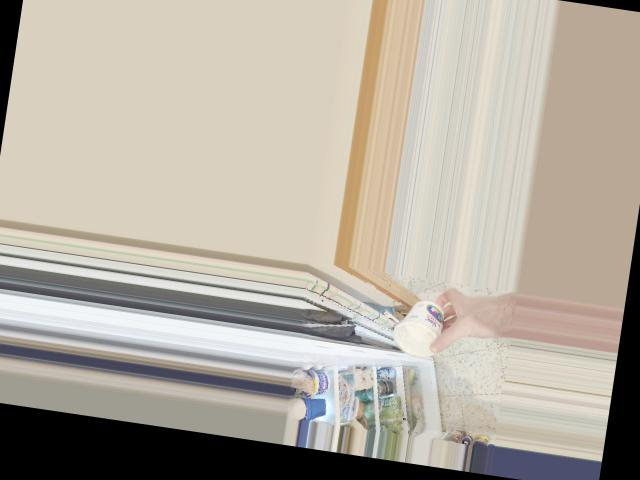cotage: (388, 302, 445, 352)
